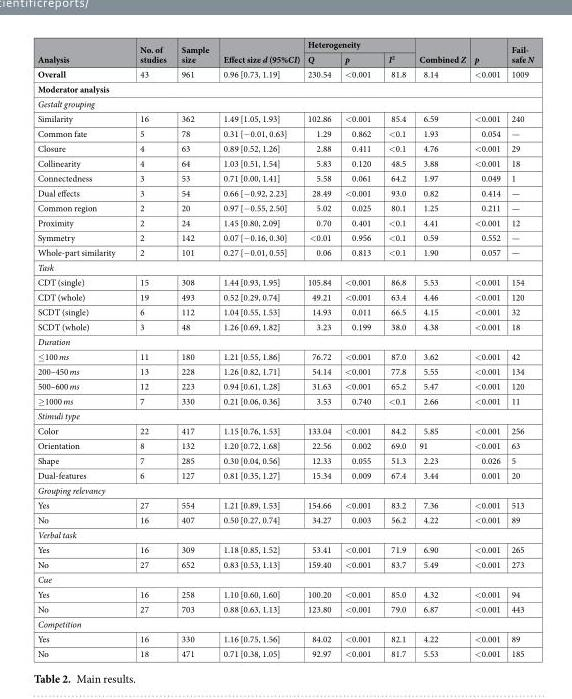table: (36, 37, 533, 659)
table column: (36, 37, 127, 659), (215, 37, 303, 659), (411, 37, 469, 659), (127, 37, 173, 659), (173, 37, 215, 659), (337, 37, 379, 659), (469, 37, 505, 659), (303, 37, 337, 659), (379, 37, 411, 659), (505, 37, 533, 659)
table column header: (36, 37, 533, 66)
table projected row header: (36, 80, 533, 95), (36, 95, 533, 110), (36, 259, 533, 274), (36, 333, 533, 348), (36, 482, 533, 497), (36, 526, 533, 541), (36, 571, 533, 586), (36, 616, 533, 631), (36, 408, 533, 422)
table row: (36, 51, 533, 66), (36, 80, 533, 95), (36, 95, 533, 110), (36, 110, 533, 125), (36, 125, 533, 140), (36, 140, 533, 155), (36, 155, 533, 170), (36, 170, 533, 185), (36, 185, 533, 200), (36, 214, 533, 229), (36, 229, 533, 244), (36, 244, 533, 259), (36, 259, 533, 274), (36, 274, 533, 289), (36, 289, 533, 304), (36, 318, 533, 333), (36, 333, 533, 348), (36, 348, 533, 363), (36, 363, 533, 378), (36, 378, 533, 393), (36, 393, 533, 408), (36, 422, 533, 437), (36, 437, 533, 452), (36, 452, 533, 467), (36, 467, 533, 482), (36, 482, 533, 497), (36, 497, 533, 512), (36, 526, 533, 541), (36, 541, 533, 556), (36, 556, 533, 571), (36, 571, 533, 586), (36, 586, 533, 601), (36, 601, 533, 616), (36, 616, 533, 631), (36, 37, 533, 51), (36, 66, 533, 80), (36, 200, 533, 214), (36, 304, 533, 318), (36, 408, 533, 422), (36, 512, 533, 526), (36, 631, 533, 645), (36, 645, 533, 659)
table spanning cell: (36, 37, 127, 66), (215, 37, 303, 66), (411, 37, 469, 66), (303, 37, 411, 51), (127, 37, 173, 66), (173, 37, 215, 66), (469, 37, 505, 66), (505, 37, 533, 66)
